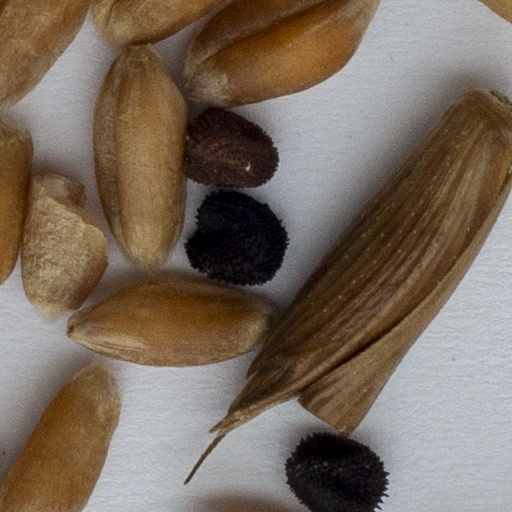Agrostemma-poly: (184, 188, 291, 290), (283, 431, 395, 511)
Peel-poly: (234, 90, 511, 429)
Wheat-grain-damaged-poly: (18, 167, 110, 319)
